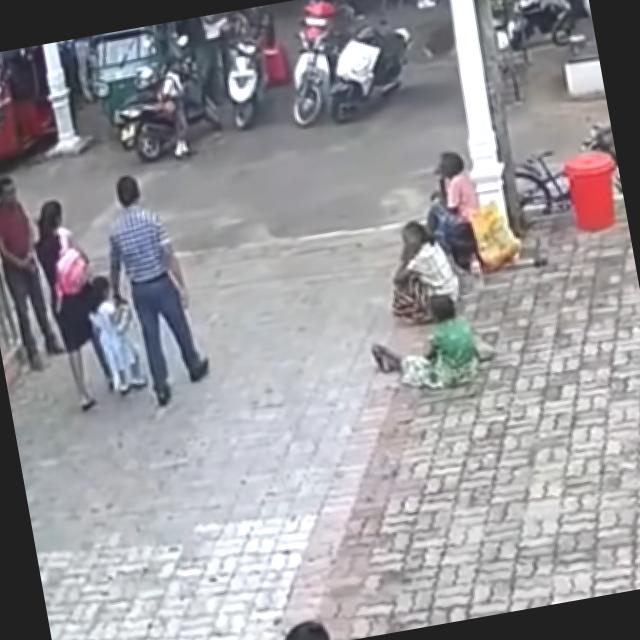person: (89, 164, 216, 413), (25, 191, 123, 416), (364, 286, 491, 403), (0, 169, 69, 376), (376, 212, 466, 331), (80, 268, 148, 398), (414, 147, 488, 264)
